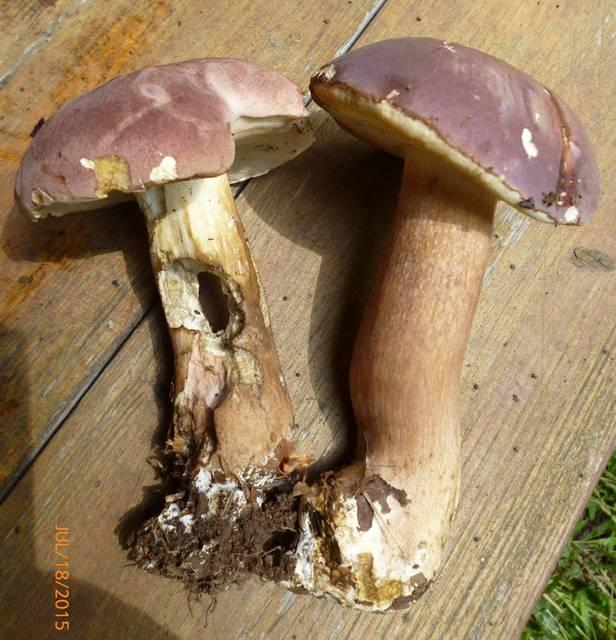Non-edible Mushroom: (282, 34, 601, 613), (12, 55, 316, 496)
